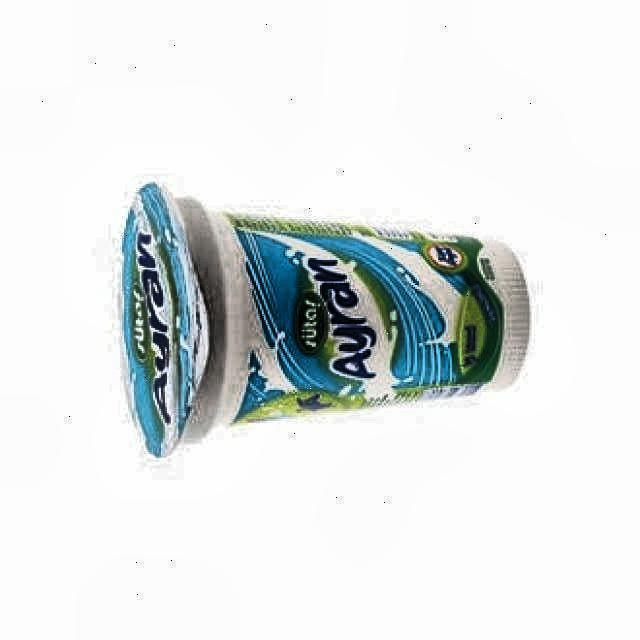plastic: (124, 184, 529, 455)
